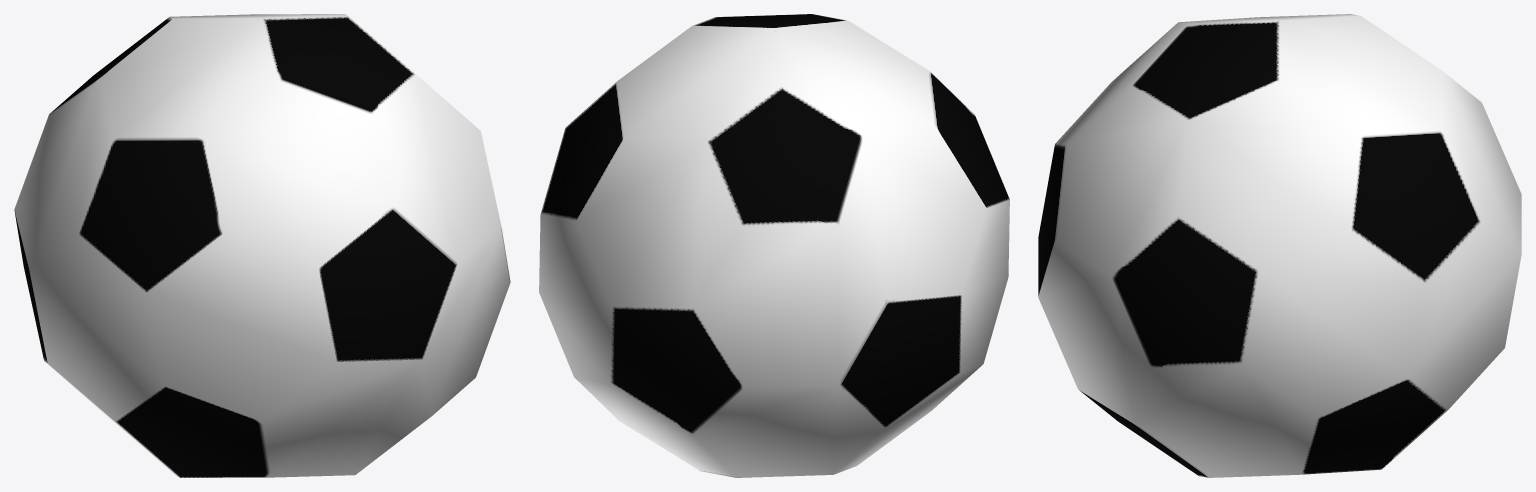
Rendered from Soccerball.obj.
3 renders of one model, left to right at view 1: azimuth 30°, elevation 25°; view 2: azimuth 150°, elevation 25°; view 3: azimuth 270°, elevation 25°, orthographic. The views are drawn at different scales.
Parts seen in each view (by area): view 1: pSolid1; view 2: pSolid1; view 3: pSolid1.
Part boxes in pixels (x1,y1,x2,y2): pSolid1: (14,14,510,477); pSolid1: (539,14,1009,477); pSolid1: (1038,14,1521,477).
Bounding box in the file's own units: 19.73 × 20 × 19.47.
